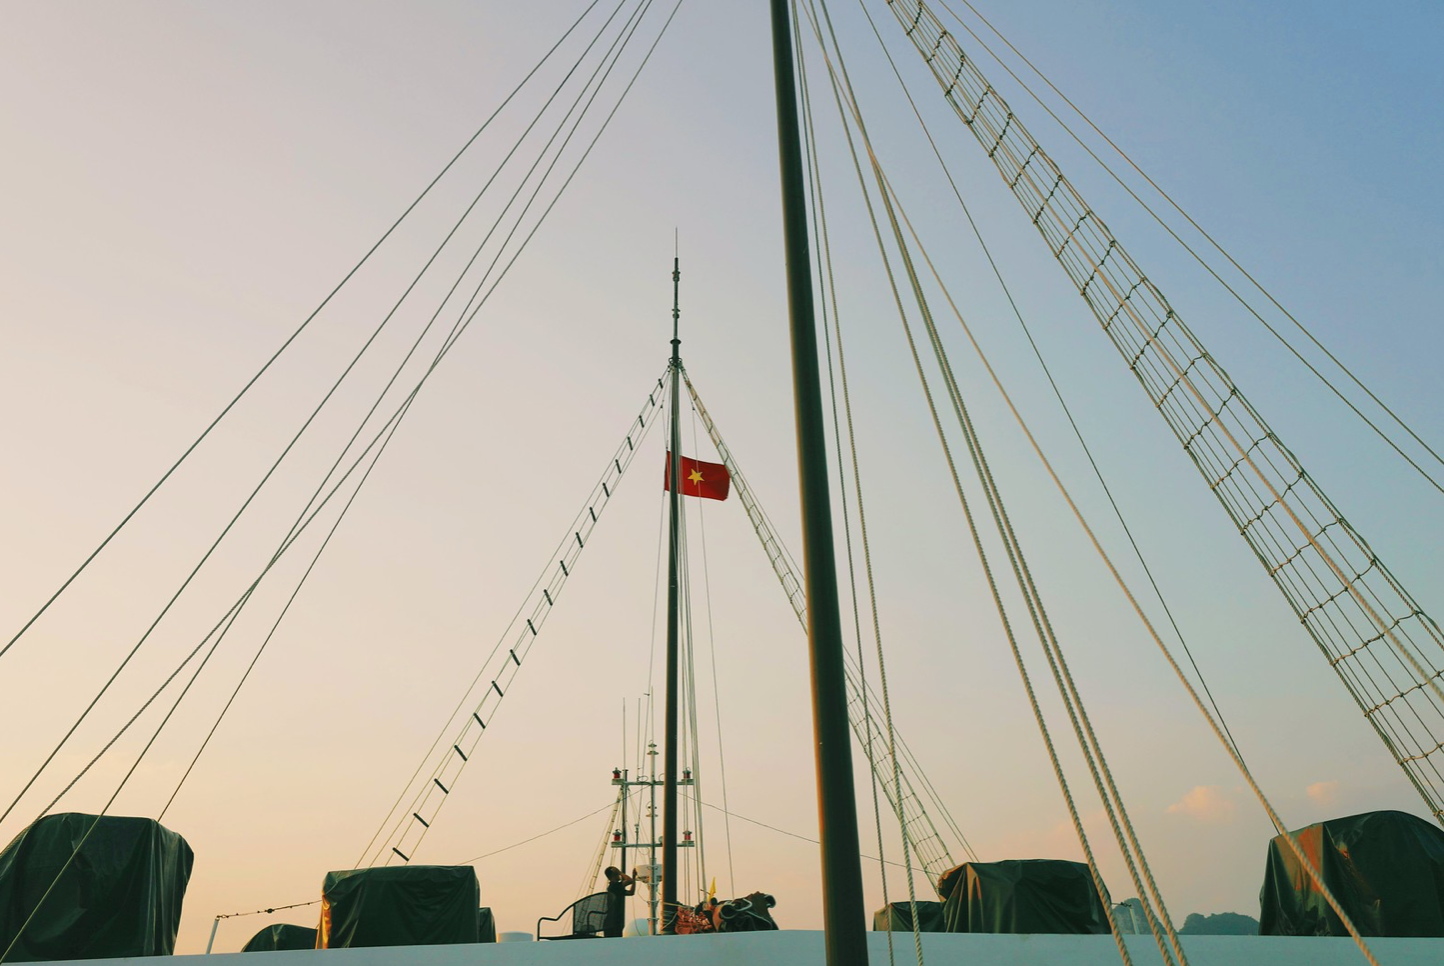Flag: (663, 451, 734, 509)
